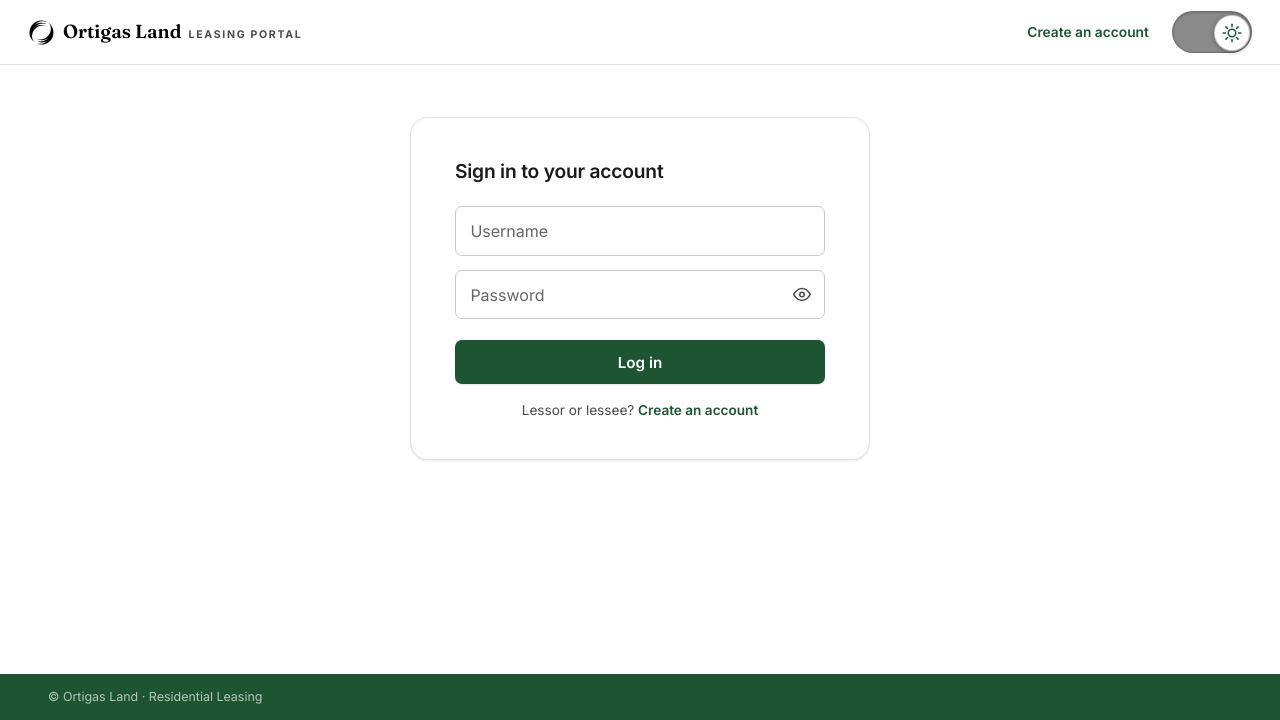
it: LoginView — when sign-in is refused › still says the account was not found when the credentials are wrong
The width and height of the screenshot is (1280, 720).
Type "jane" into the field with id "username".
click(640, 231); type("jane")  # box left=455, top=206, right=825, bottom=256
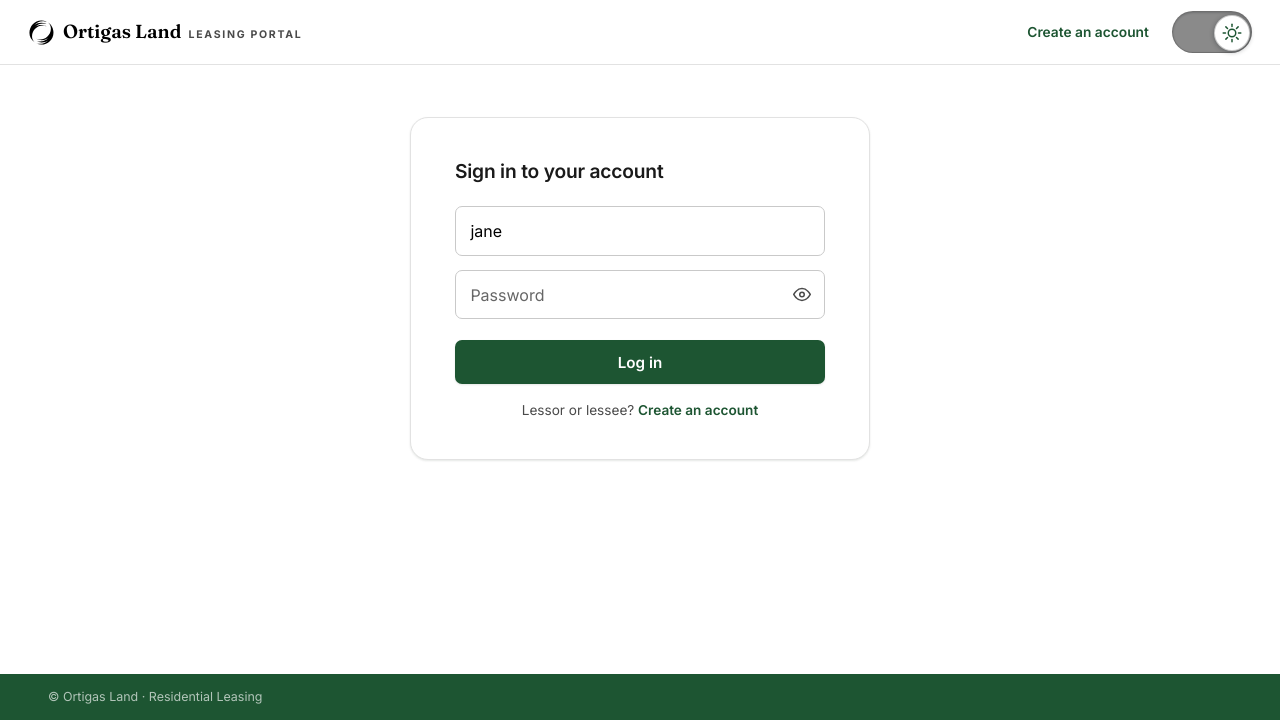
Type "secret12345" into the password field with placeholder "Password".
click(640, 294); type("secret12345")  # box left=455, top=270, right=825, bottom=319
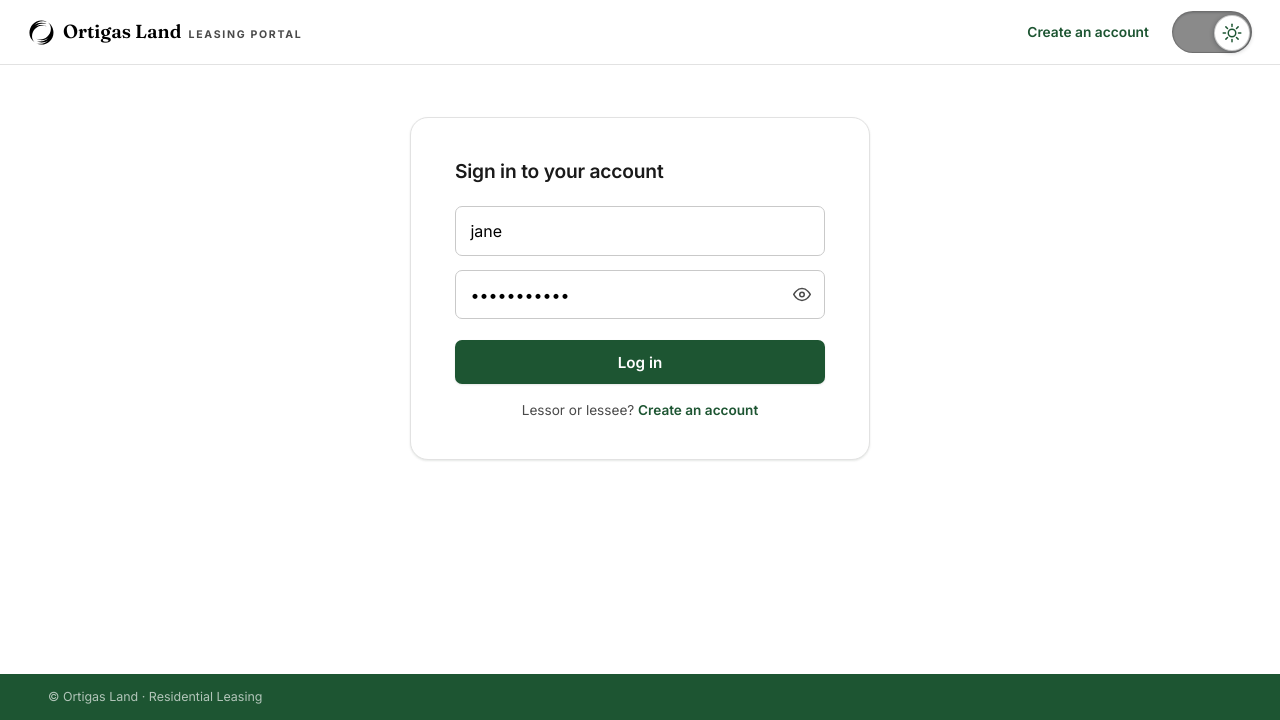
Submit the form, box left=455, top=206, right=825, bottom=384
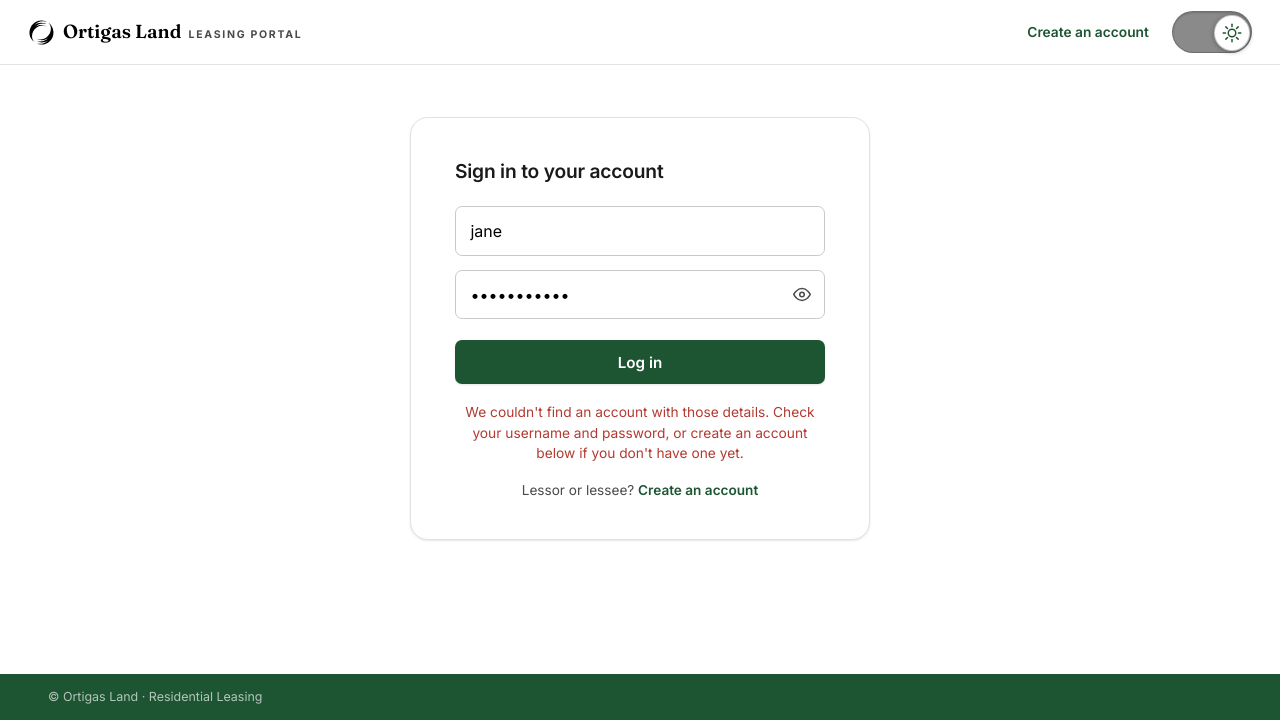
Now the text "couldn't find an account" is shown, box left=465, top=404, right=815, bottom=461
